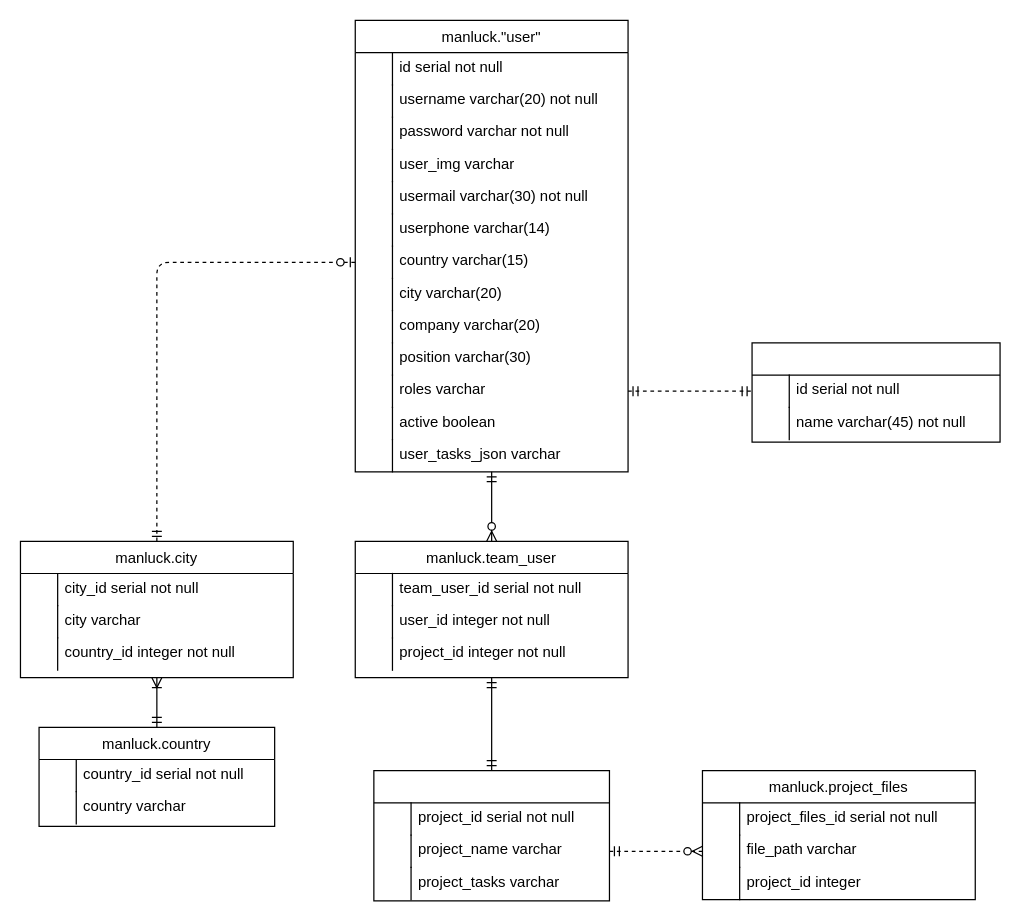
Image size: 1021x921. Some labels were removed from this diagram. Here are the shapes that lost their labels. From the top down, the box of each, then its label:
(751, 342, 1000, 442): manluck.role
(373, 769, 609, 901): manluck.project
